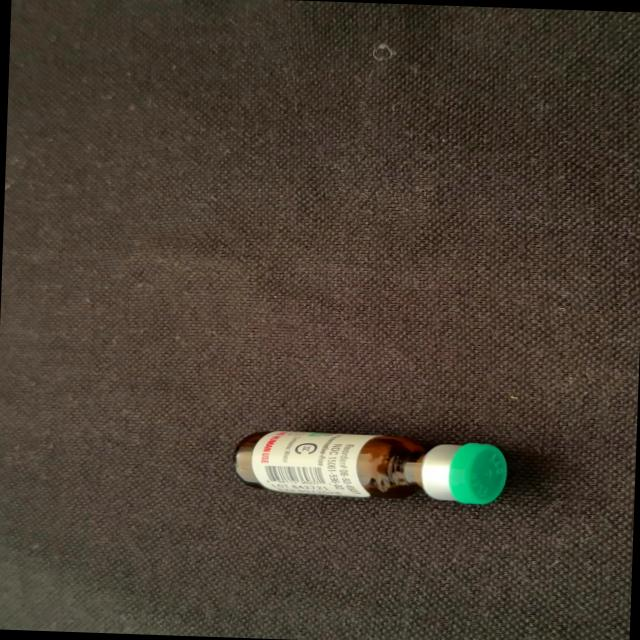midazolm: (236, 428, 504, 503)
